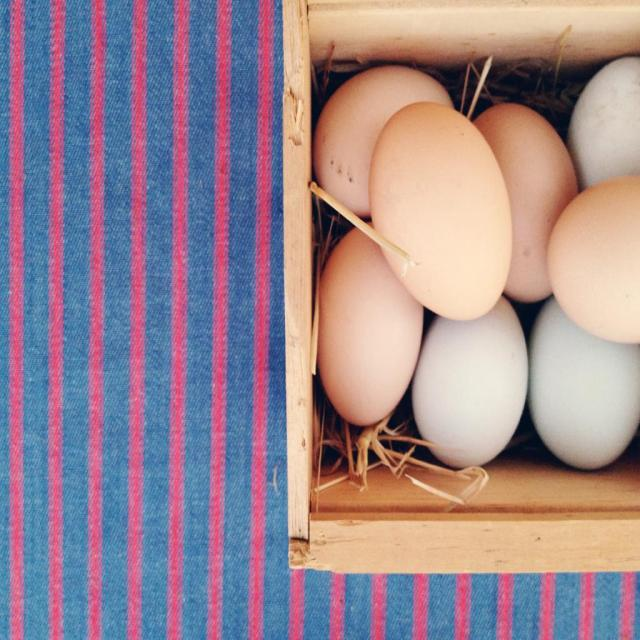Egg: (313, 55, 640, 465), (374, 102, 510, 317)
